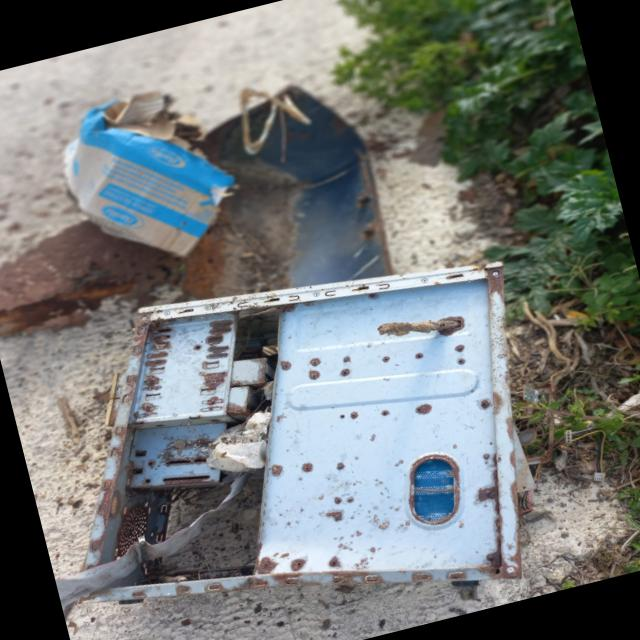Carton: (55, 86, 238, 257)
Other litter: (56, 261, 545, 616), (0, 88, 399, 332)
